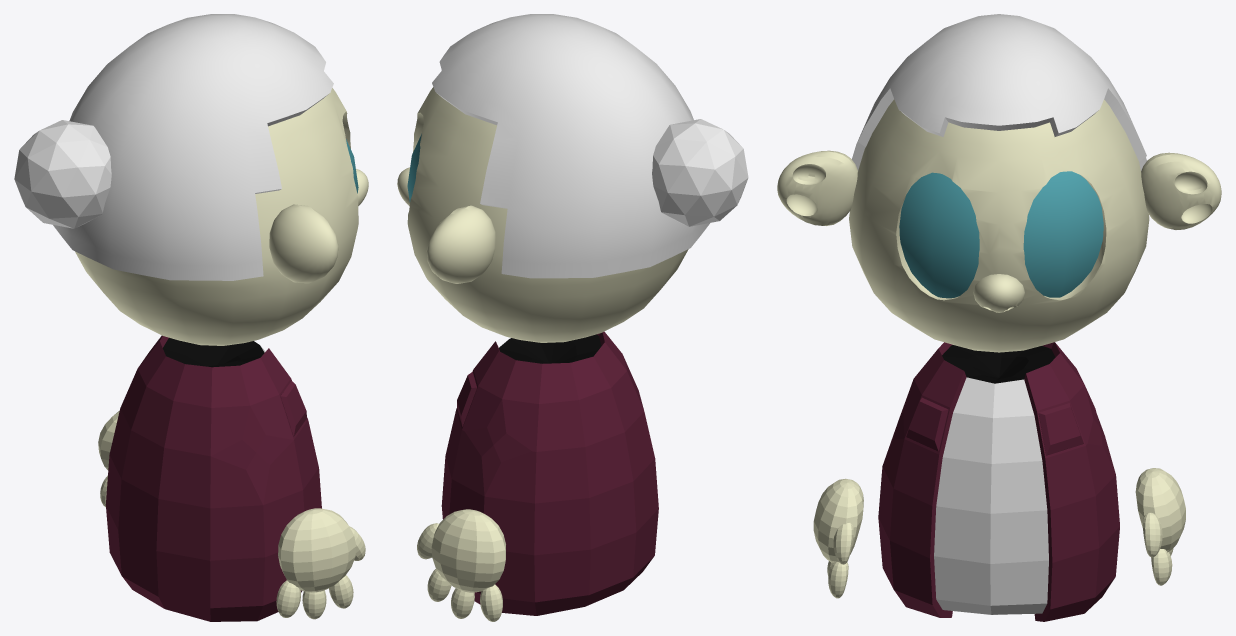
Rendered from npc 2low poly .fbx.
3 views of the same model, side by side, from view 1: azimuth 30°, elevation 25°; view 2: azimuth 150°, elevation 25°; view 3: azimuth 270°, elevation 25° (orthographic). The views are drawn at different scales.
Parts seen in each view (by area): view 1: Sphere.001, Sphere, Icosphere, Sphere.009, Sphere.023, Sphere.016, Sphere.008, Sphere.017, Sphere.018; view 2: Sphere.001, Sphere, Icosphere, Sphere.008, Sphere.022, Sphere.014, Sphere.013, Sphere.012, Sphere.011; view 3: Sphere.001, Sphere, Sphere.019, Sphere.022, Sphere.023, Sphere.008, Sphere.009, Sphere.024, Sphere.011, Sphere.015, Sphere.018.
Part boxes in pixels (x1,y1,x2,y2): Sphere.001: (53,14,358,345); Sphere: (106,335,321,621); Icosphere: (14,120,111,228); Sphere.009: (278,508,356,592); Sphere.023: (269,204,338,283); Sphere.016: (276,580,300,617); Sphere.008: (98,411,119,470); Sphere.017: (302,590,326,619); Sphere.018: (329,575,353,608); Sphere.001: (407,14,709,342); Sphere: (441,331,658,615); Icosphere: (652,119,748,226); Sphere.008: (431,509,505,592); Sphere.022: (426,205,495,283); Sphere.014: (480,584,502,621); Sphere.013: (451,588,474,618); Sphere.012: (427,569,451,601); Sphere.011: (417,523,438,559); Sphere.001: (849,14,1149,352); Sphere: (878,342,1119,621); Sphere.019: (899,171,1103,298); Sphere.022: (1141,152,1221,229); Sphere.023: (777,150,857,225); Sphere.008: (1135,468,1185,552); Sphere.009: (813,478,863,563); Sphere.024: (973,274,1024,312); Sphere.011: (1142,512,1162,557); Sphere.015: (833,523,853,564); Sphere.018: (828,562,848,598).
Bounding box in the file's own units: 150 × 232 × 165.
